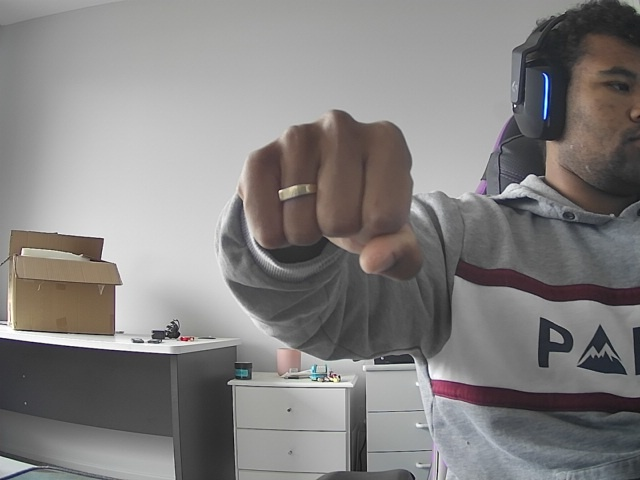Yes: (196, 92, 452, 312)
